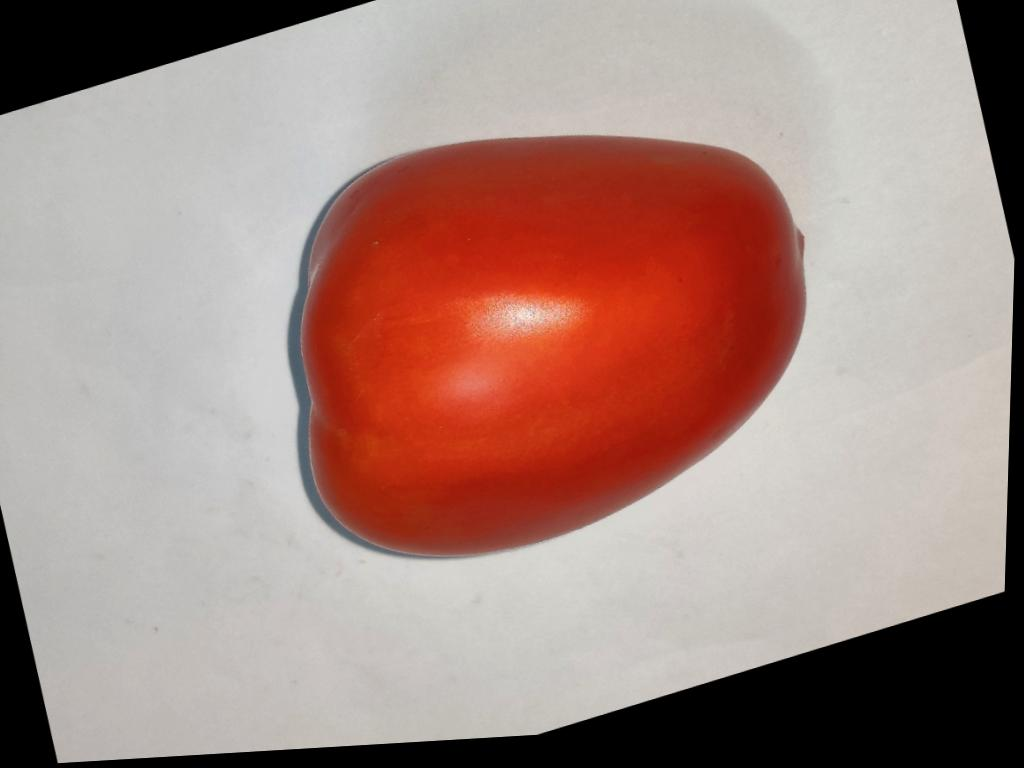tomato: (302, 137, 804, 555)
